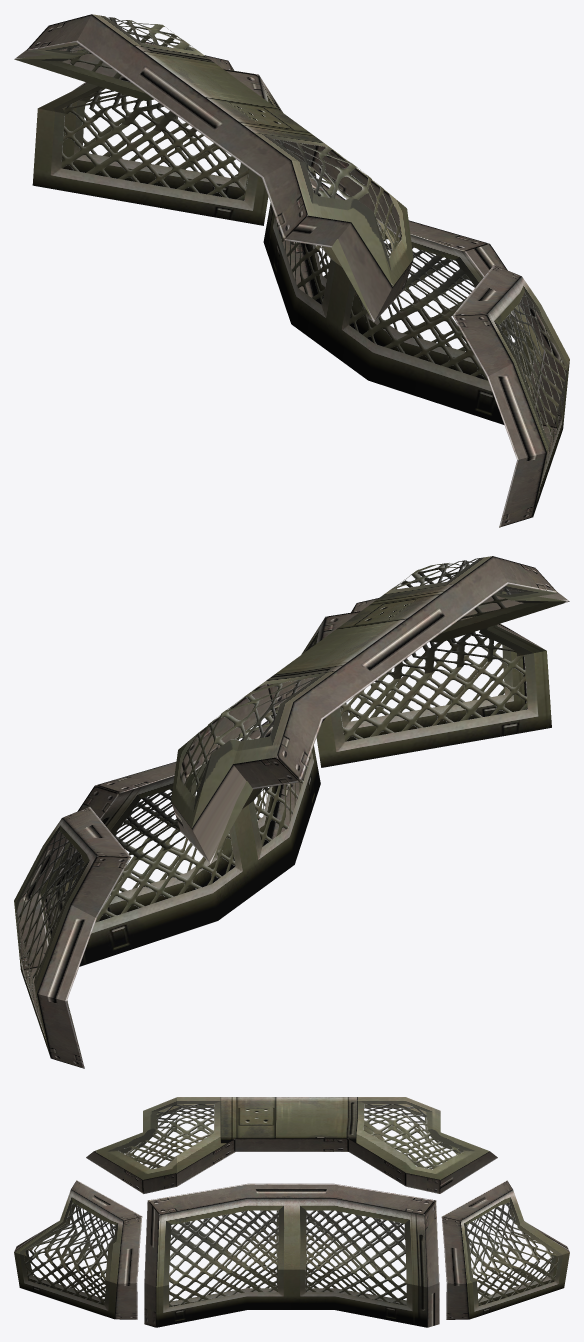
Rendered from heavy_unit_shield.obj.
The picture shows the model from 3 angles, top to bottom: view 1: azimuth 30°, elevation 25°; view 2: azimuth 150°, elevation 25°; view 3: azimuth 270°, elevation 25°; orthographic projection. The views are drawn at different scales.
Visible parts, largest first — view 1: polySurface9; view 2: polySurface9; view 3: polySurface9.
Boxes of the visible parts, left/top/right/bottom form: polySurface9: left=14, top=14, right=569, bottom=527; polySurface9: left=14, top=556, right=569, bottom=1068; polySurface9: left=14, top=1097, right=569, bottom=1327.
Bounding box in the file's own units: 11.77 × 12.17 × 35.87.
Materials: 1 (1 with a texture image).
